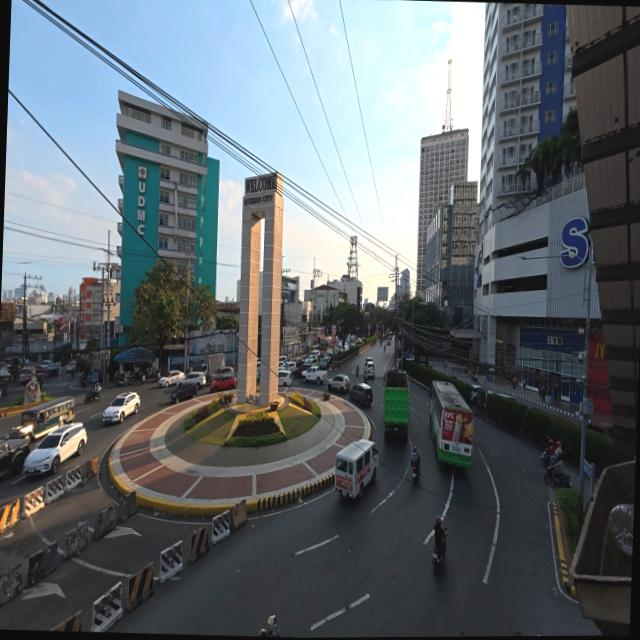car: (103, 392, 142, 426), (175, 370, 209, 400)
